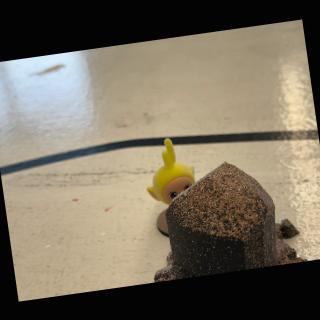teletubby: (146, 138, 195, 204)
